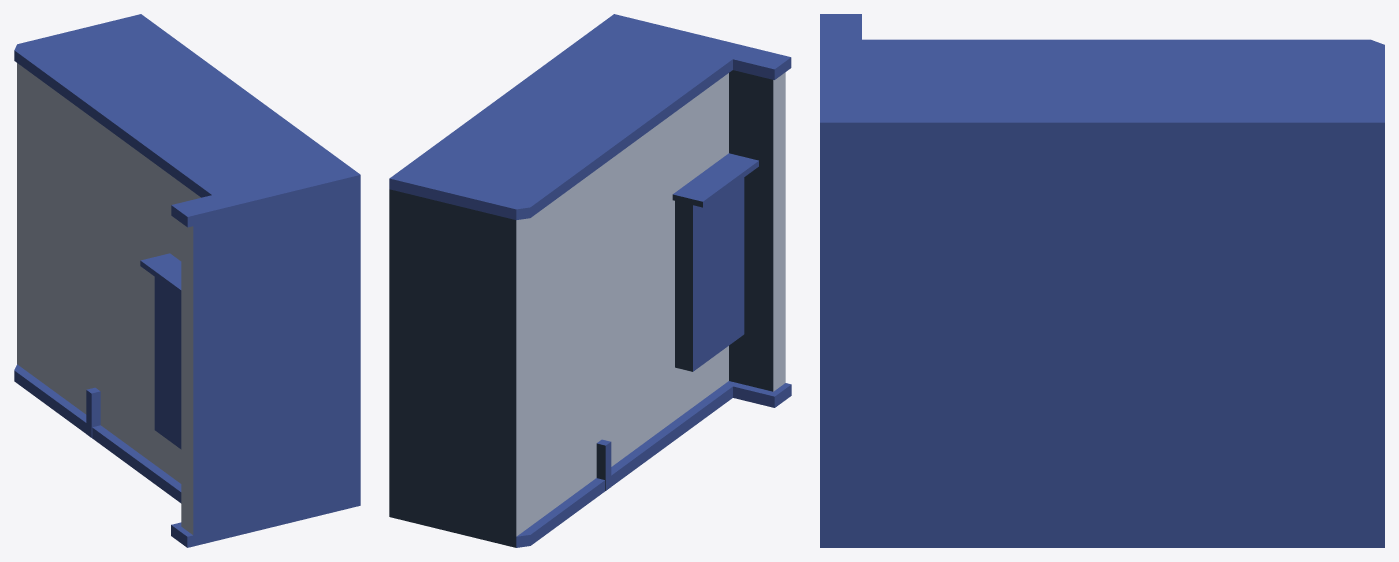
The model's file is Apartment.fbx.
3 renders of one model, left to right at view 1: azimuth 30°, elevation 25°; view 2: azimuth 150°, elevation 25°; view 3: azimuth 270°, elevation 25°, orthographic. The views are drawn at different scales.
Visible parts, largest first — view 1: Apartment Unit; view 2: Apartment Unit; view 3: Apartment Unit.
Boxes of the visible parts, x1,y1,x2,y2 form: Apartment Unit: [14, 14, 360, 547]; Apartment Unit: [389, 14, 791, 547]; Apartment Unit: [820, 14, 1384, 547].
Bounding box in the file's own units: 19160 × 34942 × 42045.
